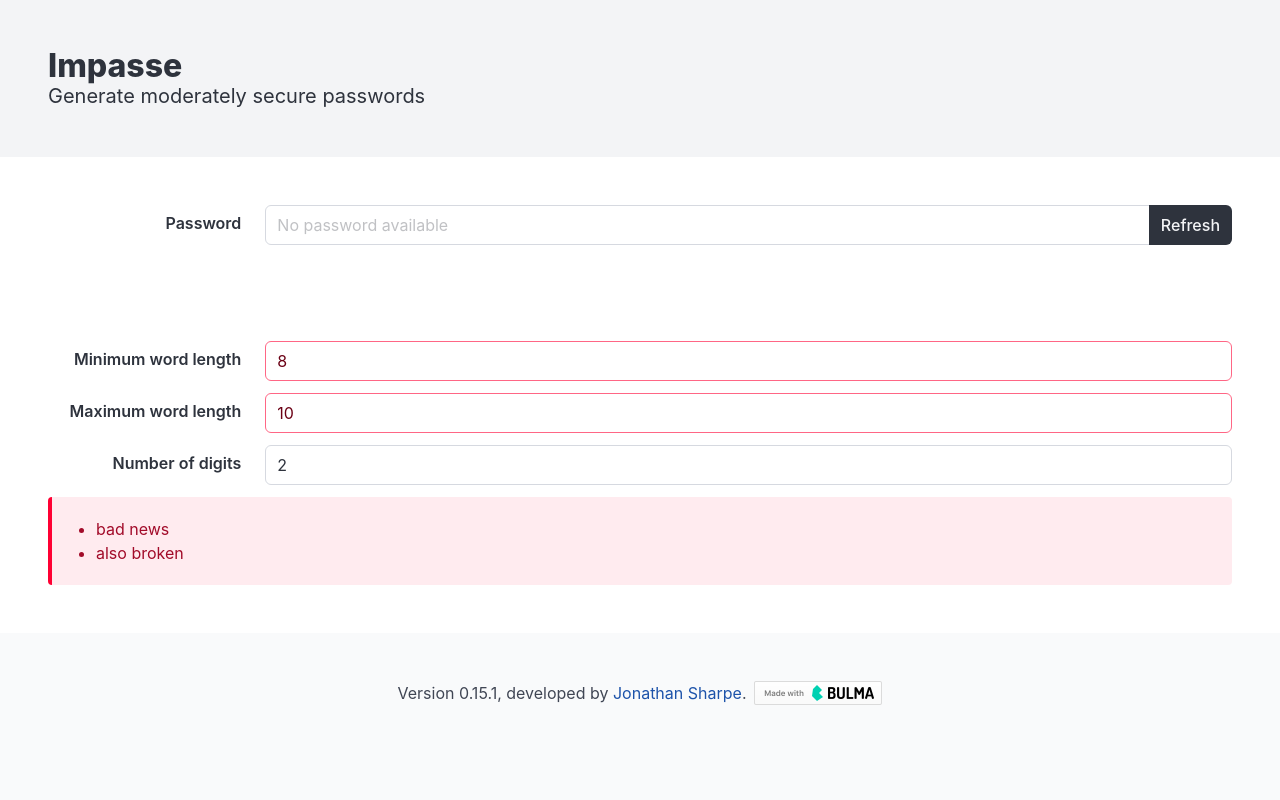
Test case: App › when request rejects › clears the error message when successful
The width and height of the screenshot is (1280, 800).
Click the button "Refresh".
click(1190, 225)  # box [1149,205,1232,245]
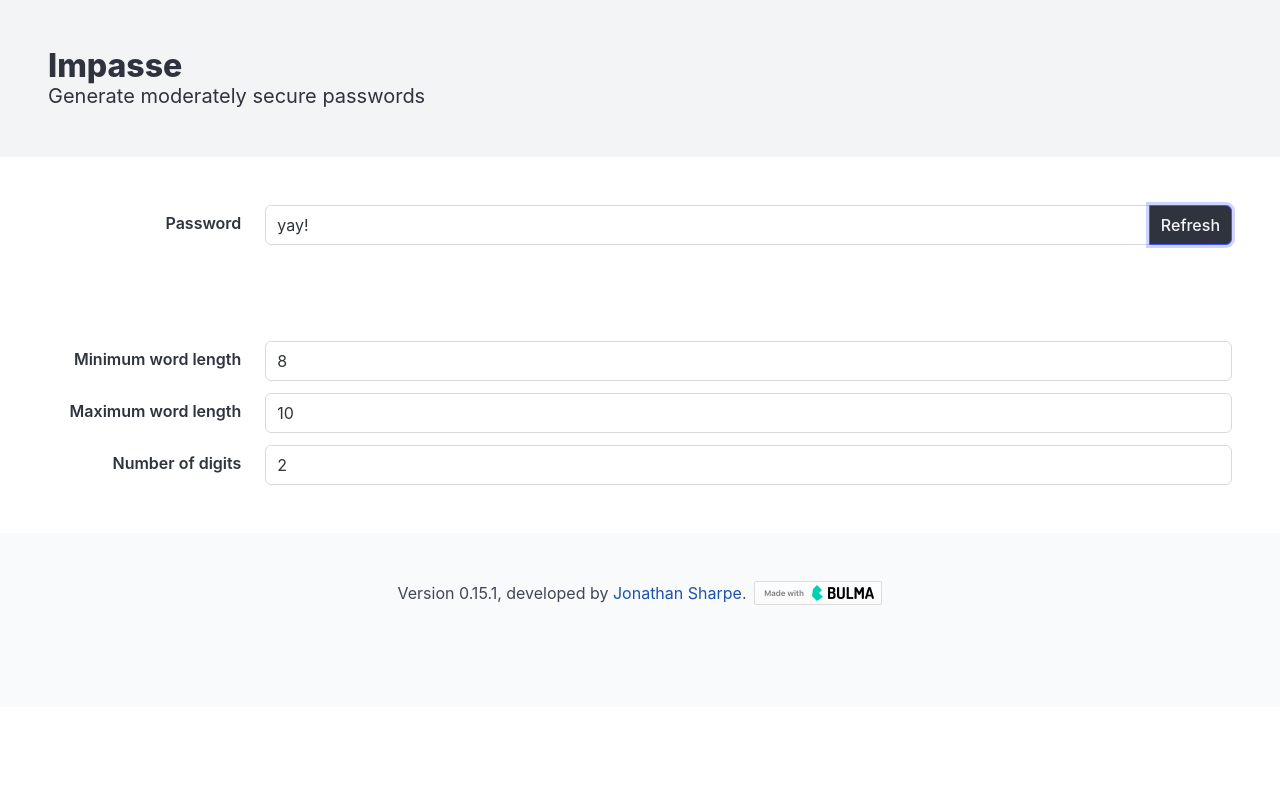
Expected: the field labelled "Password" holds "yay!", [265,205,1150,245]
